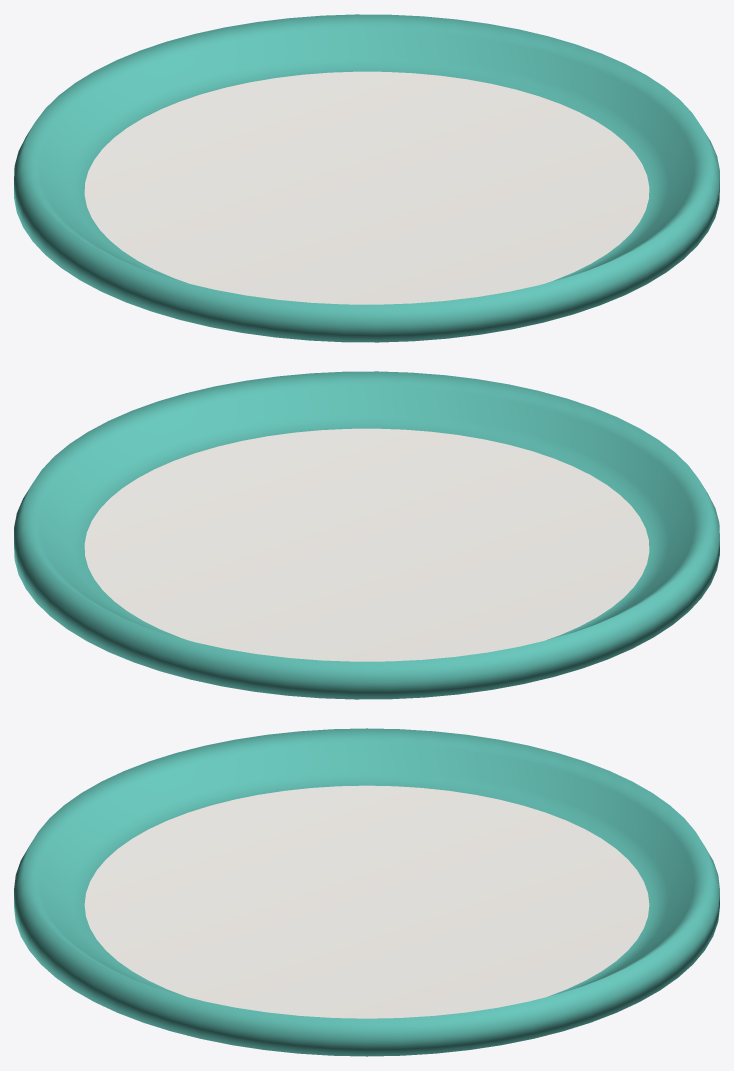
File: plates_a.glb
3 views of the same model, one above another, from view 1: azimuth 30°, elevation 25°; view 2: azimuth 150°, elevation 25°; view 3: azimuth 270°, elevation 25° (orthographic).
Visible parts, largest first — view 1: body; view 2: body; view 3: body.
Boxes of the visible parts, <box> form: body: <box>14,14,719,342</box>; body: <box>14,371,719,699</box>; body: <box>14,728,719,1056</box>.
Size of the model in its own units: 0.22 by 0.014 by 0.22.
